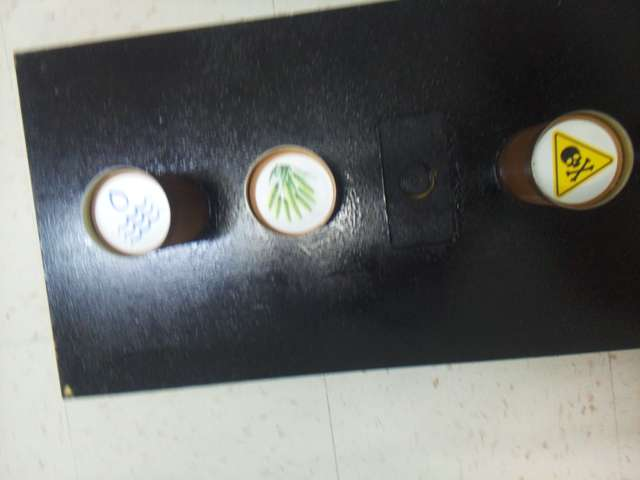toxic_fluid: (533, 120, 618, 205)
water_barrel: (93, 174, 169, 254)
wheat_barrel: (255, 153, 333, 232)
